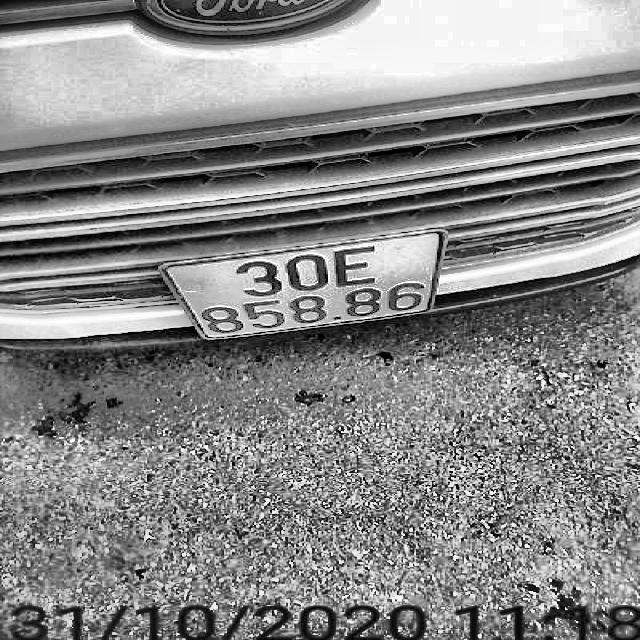plate: (150, 224, 458, 349)
